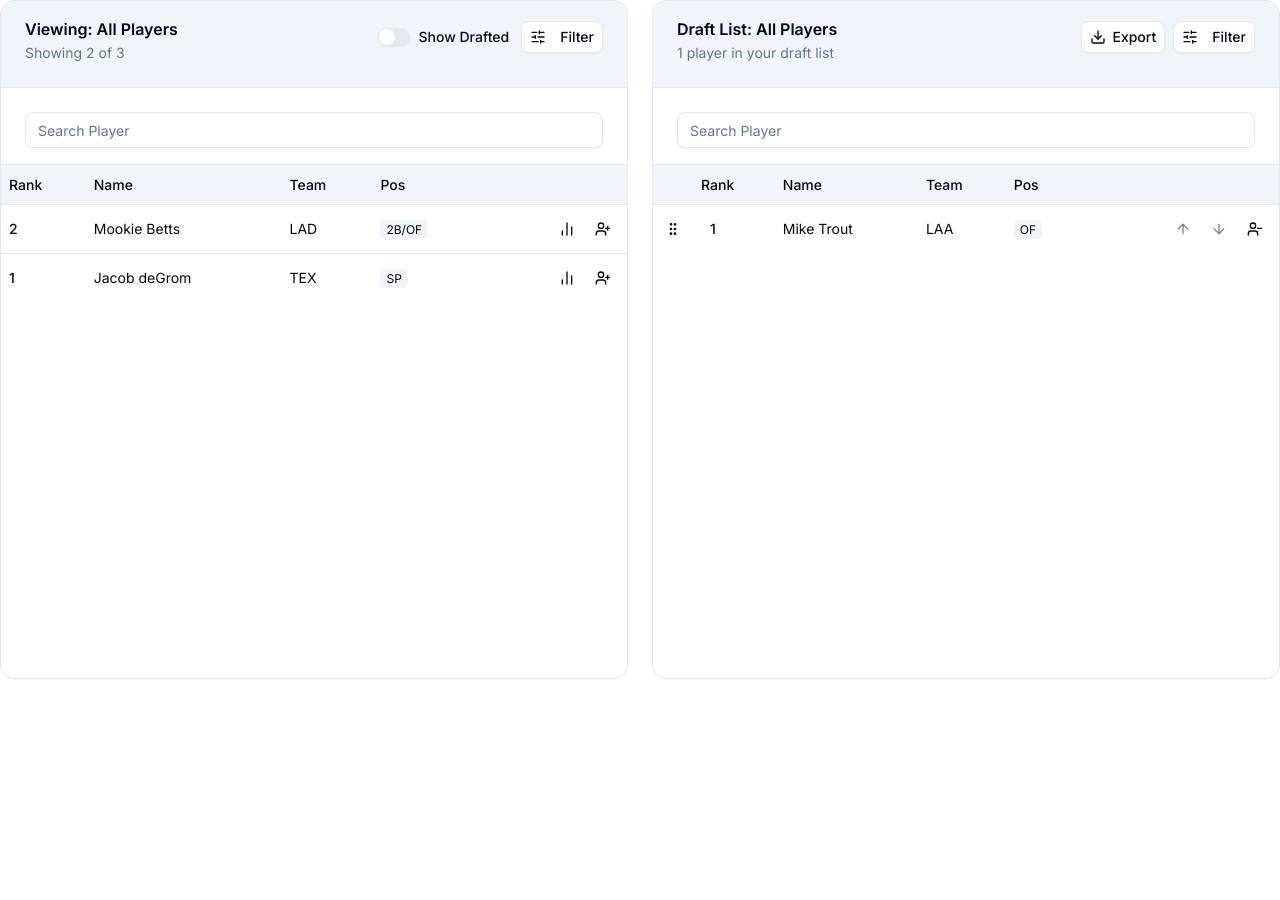
Test: DraftListBuilder › export functionality › should open export popover with layout options
Click the button "Export": [1123, 37] box [1081, 21, 1165, 53]
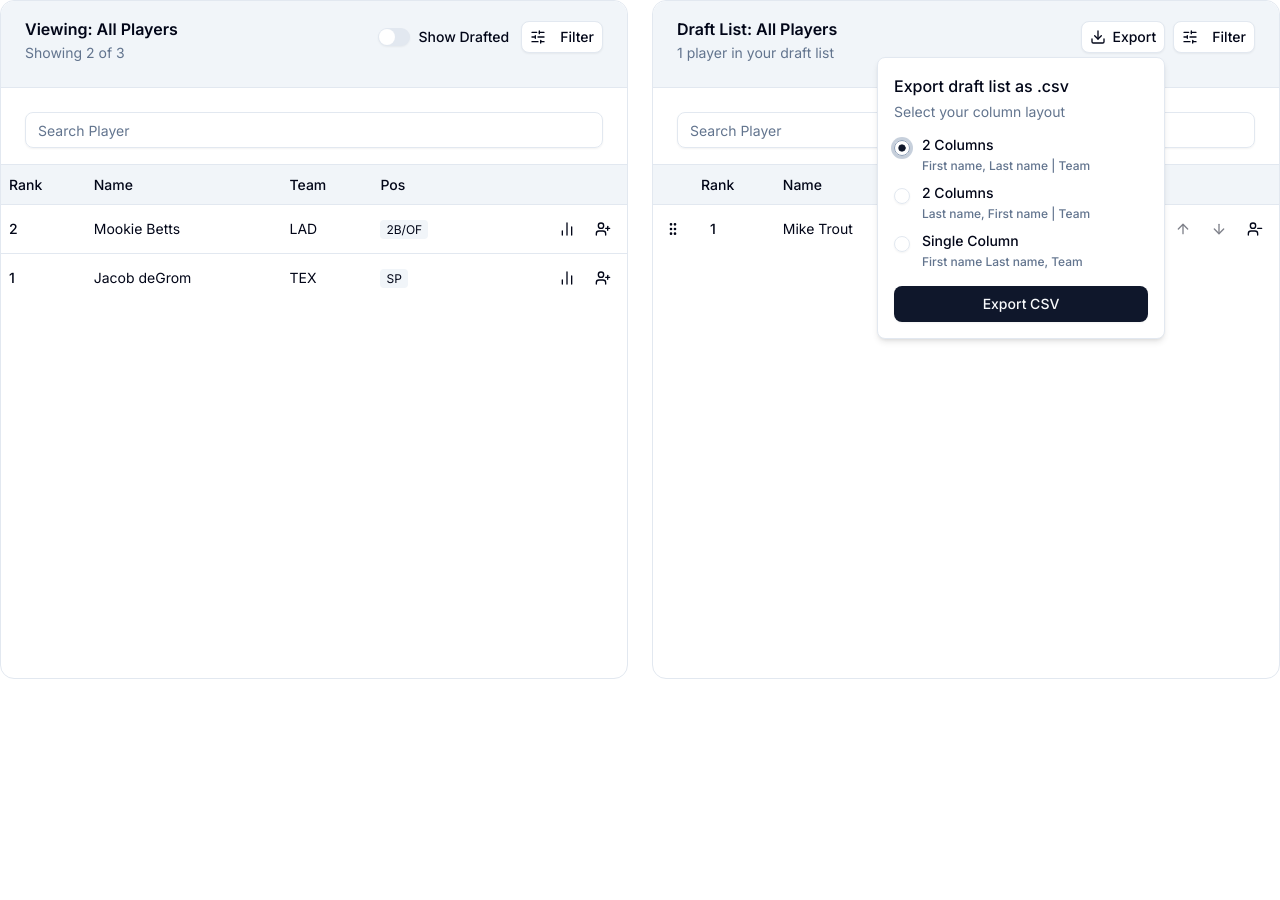
Now the text "Export draft list as .csv" is shown, box [894, 76, 1069, 96]
Now the text "2 Columns" is shown 2 times, box [922, 138, 993, 152]; [922, 186, 993, 200]
Now the text "Single Column" is shown, box [922, 234, 1019, 248]
